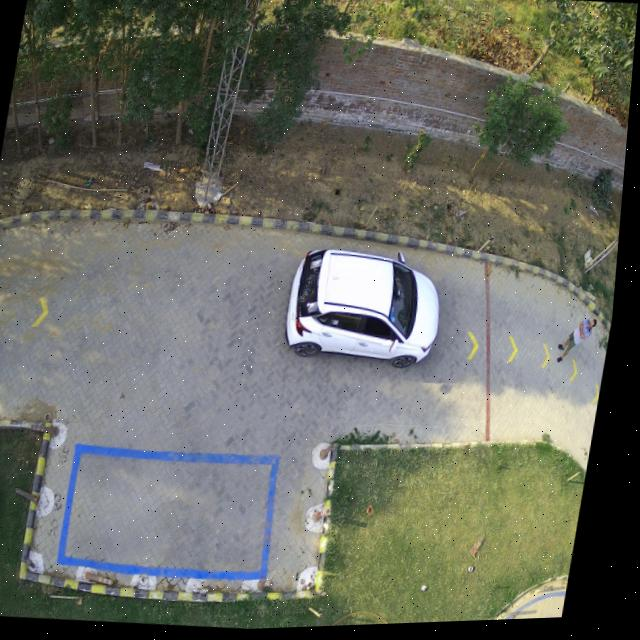car: (291, 252, 444, 372)
